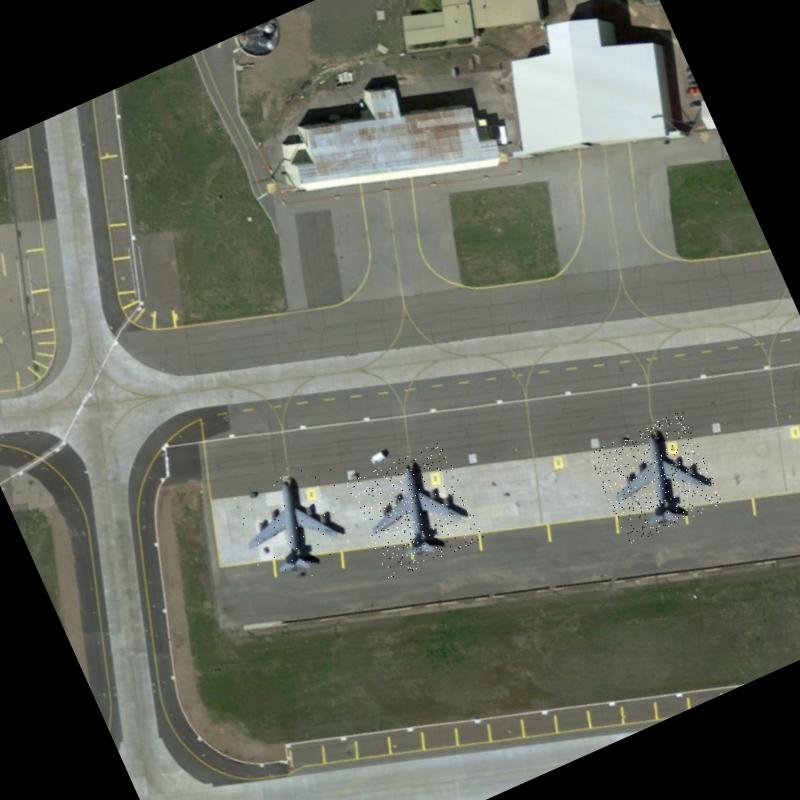A14: (346, 441, 485, 581), (228, 456, 368, 594), (587, 408, 725, 546)
